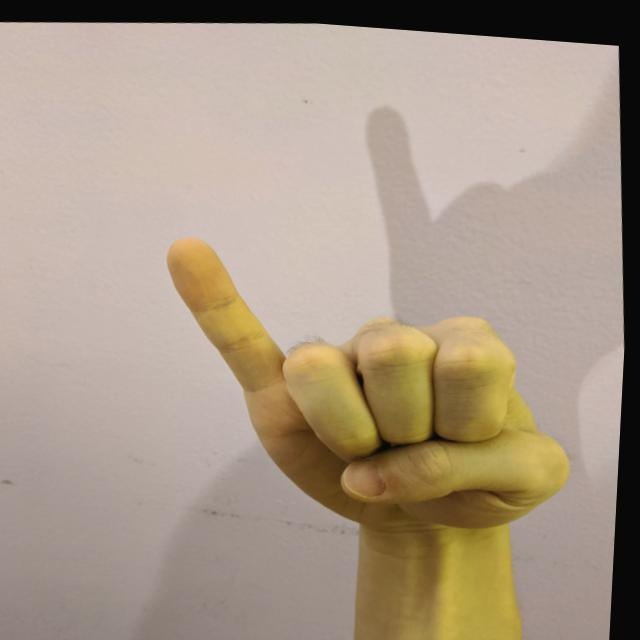I: (148, 200, 599, 553)
